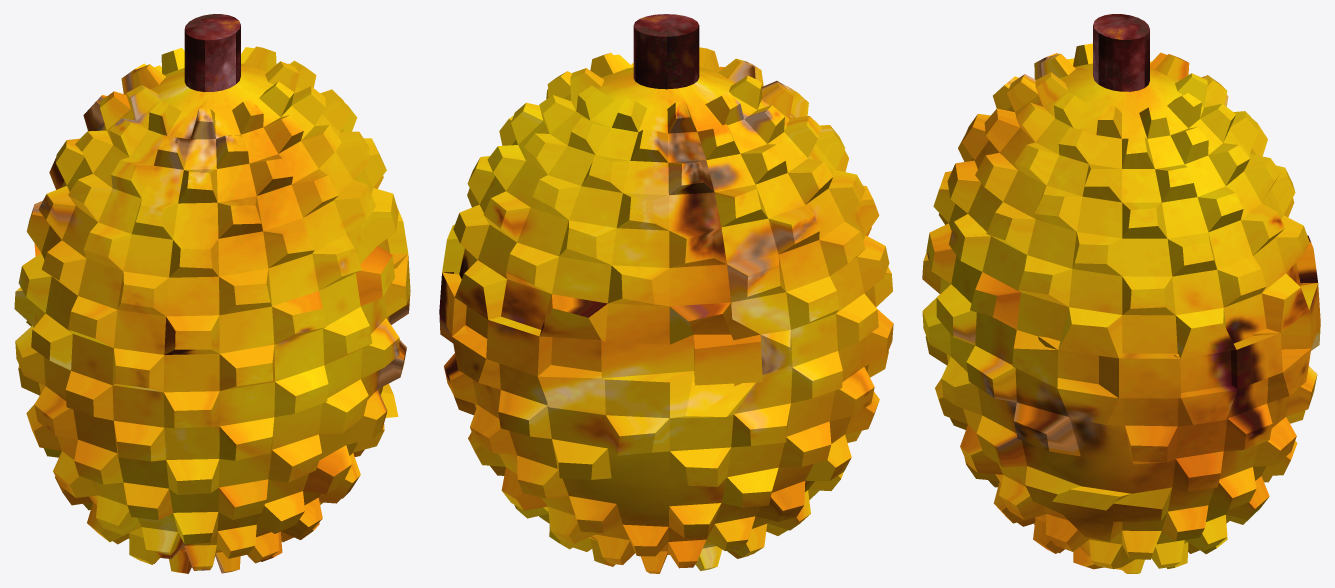
Rendered from Fruta dragon.fbx.
3 renders of one model, left to right at view 1: azimuth 30°, elevation 25°; view 2: azimuth 150°, elevation 25°; view 3: azimuth 270°, elevation 25°, orthographic.
Parts seen in each view (by area): view 1: polySurface8; view 2: polySurface8; view 3: polySurface8.
Part boxes in pixels (x1,y1,x2,y2): polySurface8: [14, 14, 410, 573]; polySurface8: [439, 14, 893, 573]; polySurface8: [922, 14, 1320, 573].
Bounding box in the file's own units: 0.2184 × 0.2924 × 0.2029.
